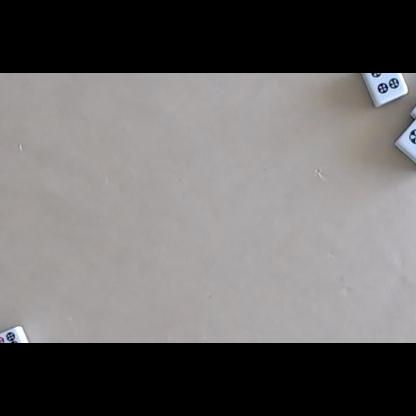2p: (408, 128, 416, 158)
4p: (370, 73, 399, 94)
9p: (0, 332, 23, 343)
